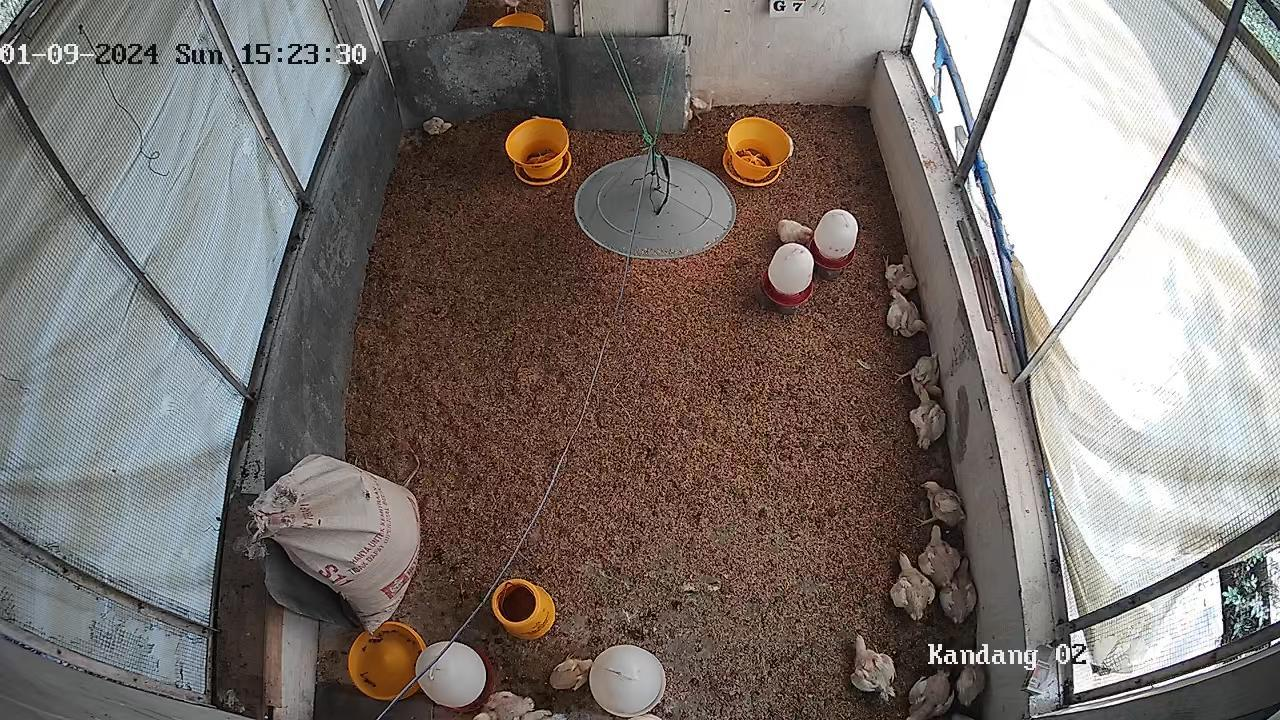chicken: (889, 552, 936, 621), (850, 633, 896, 703), (917, 524, 960, 587), (940, 556, 978, 624), (909, 384, 947, 451), (908, 668, 955, 720), (886, 286, 929, 340), (918, 481, 967, 525), (473, 690, 535, 720), (548, 655, 594, 691), (956, 653, 986, 707), (910, 351, 942, 400), (885, 254, 917, 297), (780, 216, 815, 245), (423, 115, 453, 137), (689, 89, 715, 113), (521, 710, 569, 720)
